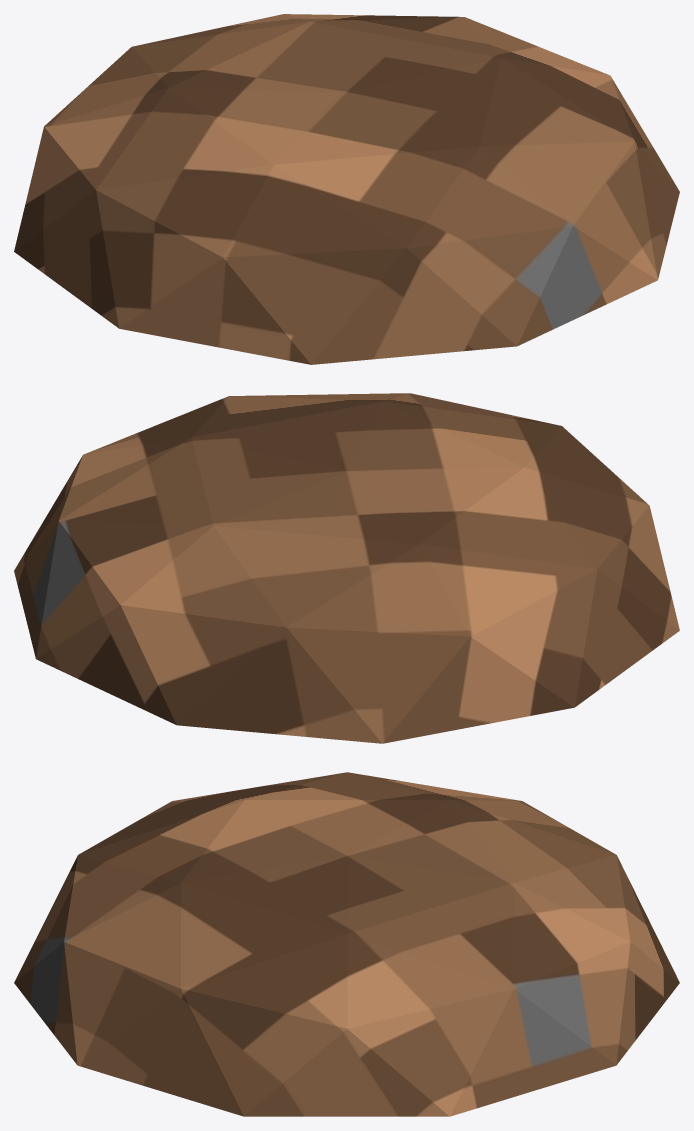
File: grainesSousTerre.glb
3 views of the same model, one above another, from view 1: azimuth 30°, elevation 25°; view 2: azimuth 150°, elevation 25°; view 3: azimuth 270°, elevation 25° (orthographic). The views are drawn at different scales.
Visible parts, largest first — view 1: Icosphere; view 2: Icosphere; view 3: Icosphere.
Part boxes in pixels (<box>): Icosphere: <box>14,14,679,364</box>; Icosphere: <box>14,393,679,743</box>; Icosphere: <box>14,772,679,1116</box>.
Bounding box in the file's own units: 0.4405 × 0.0974 × 0.4632.
Materials: 1 (1 with a texture image).
